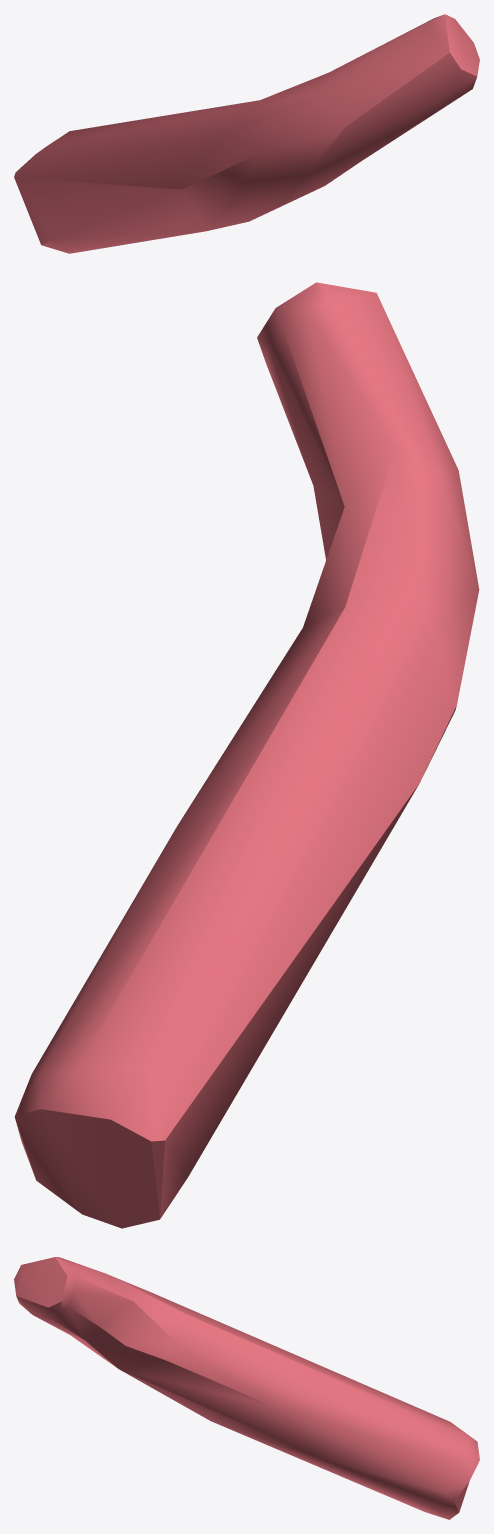
Rendered from fma13279_fj2909.glb.
The picture shows the model from 3 angles, top to bottom: view 1: azimuth 30°, elevation 25°; view 2: azimuth 150°, elevation 25°; view 3: azimuth 270°, elevation 25°; orthographic projection. The views are drawn at different scales.
Visible parts, largest first — view 1: FMA13279_FJ2909; view 2: FMA13279_FJ2909; view 3: FMA13279_FJ2909.
Boxes of the visible parts, x1,y1,x2,y2 form: FMA13279_FJ2909: (14,14,479,253); FMA13279_FJ2909: (14,282,479,1228); FMA13279_FJ2909: (14,1257,479,1519).
Bounding box in the file's own units: 0.00559 × 0.0104 × 0.0144.
